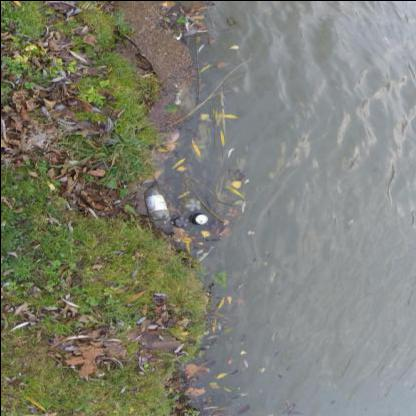Bottle cap: (144, 186, 170, 218), (180, 198, 200, 212), (171, 217, 188, 226)
Can: (190, 212, 208, 224), (194, 349, 206, 356)
